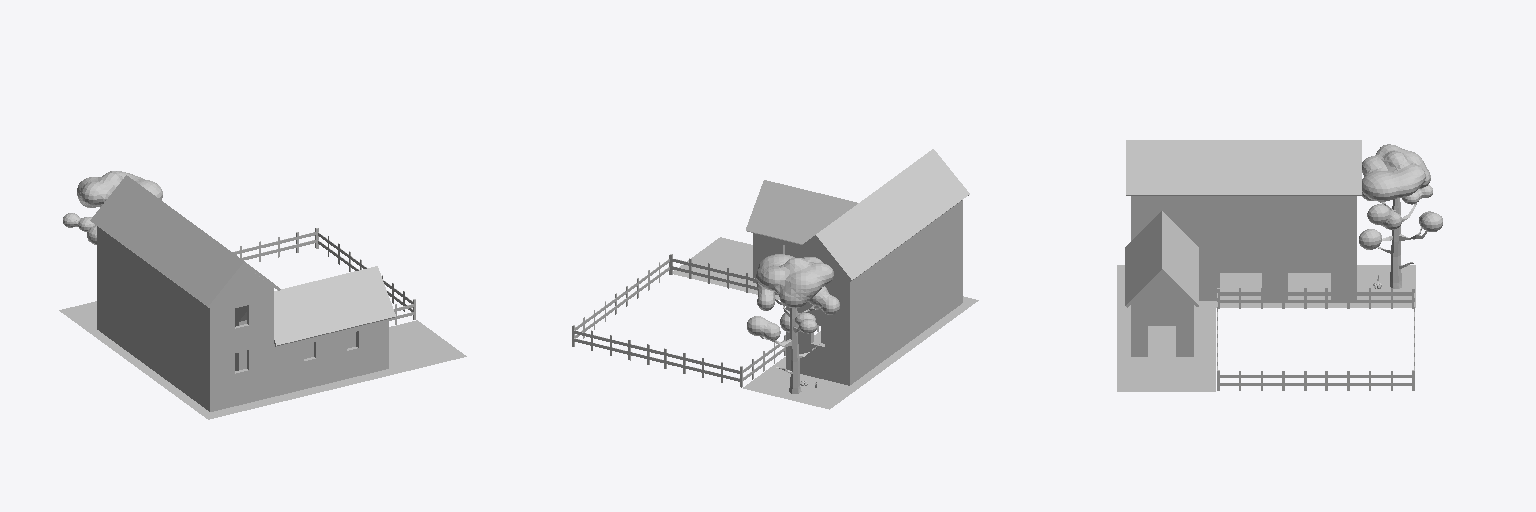
3 renders of one model, left to right at view 1: azimuth 30°, elevation 25°; view 2: azimuth 150°, elevation 25°; view 3: azimuth 270°, elevation 25°, orthographic.
Visible parts, largest first — view 1: Farm_Cube.008; view 2: Farm_Cube.008; view 3: Farm_Cube.008.
Boxes of the visible parts, box(x1,y1,x2,y2) form: Farm_Cube.008: box(59, 171, 466, 419); Farm_Cube.008: box(572, 149, 978, 409); Farm_Cube.008: box(1117, 140, 1442, 391).
Bounding box in the file's own units: 6 × 3.22 × 6.56.